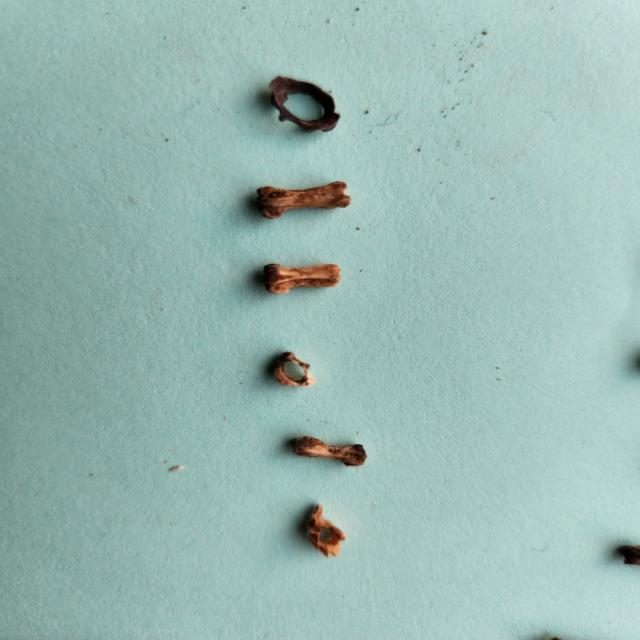fossil: (257, 65, 355, 139), (247, 175, 359, 223), (255, 256, 357, 302), (287, 430, 381, 474), (293, 499, 356, 562), (259, 347, 328, 396)
